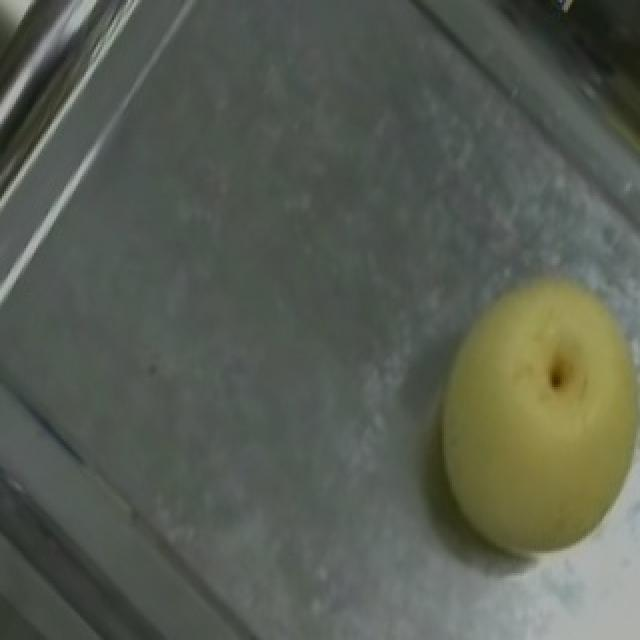Fruit: (392, 236, 640, 578)
